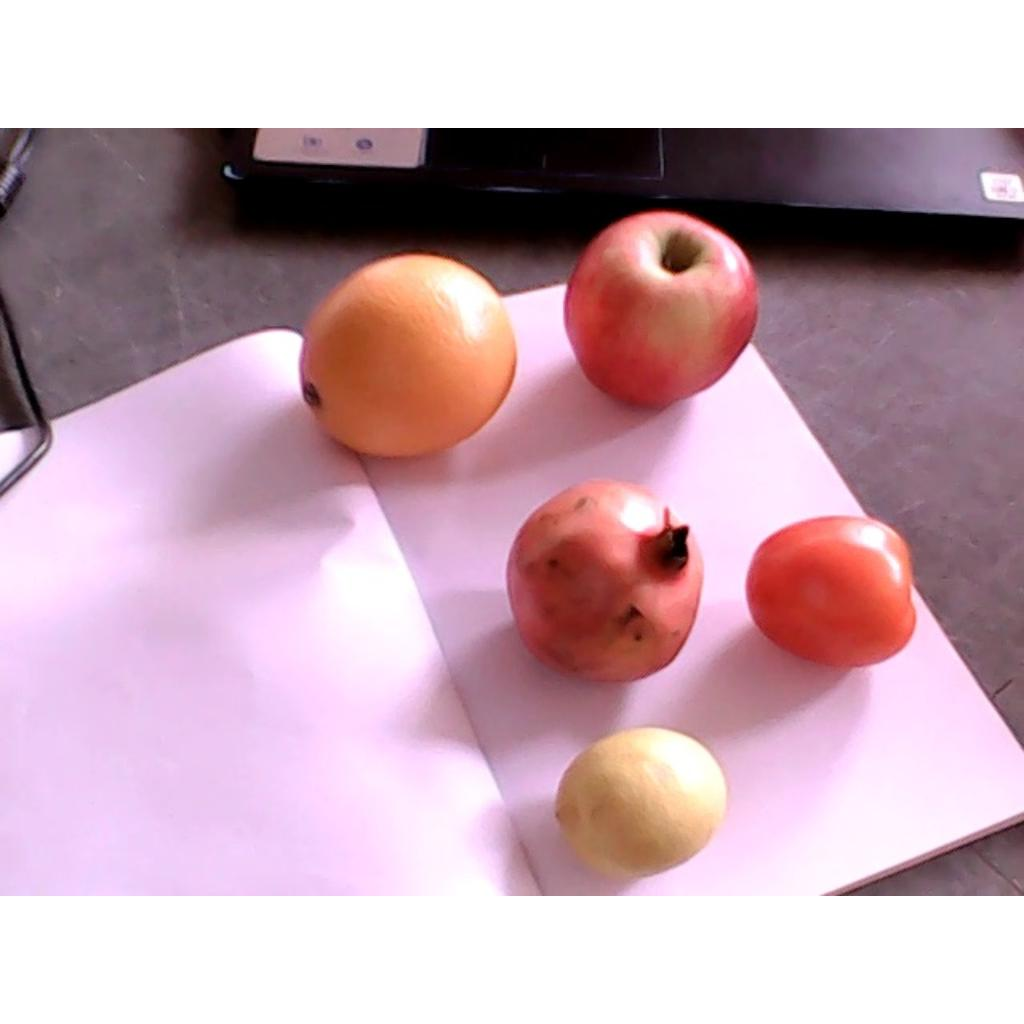apple: (565, 211, 758, 411)
lemon: (555, 728, 726, 876)
orange: (301, 255, 517, 460)
pomegranate: (507, 477, 703, 684)
tomato: (747, 517, 916, 669)
